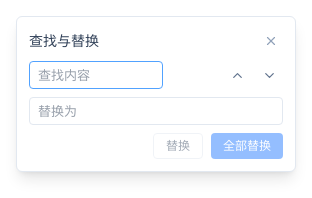
Scenario: SearchPanel › 搜索无结果时显示「无结果」
This screenshot has width=312, height=198.
Type "不存在" into the field with placeholder "查找内容". click: (96, 75)
box: x1=29 y1=61 x2=163 y2=89
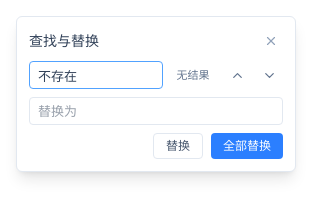
Expected: the text "无结果" is shown, x1=176 y1=68 x2=210 y2=82
